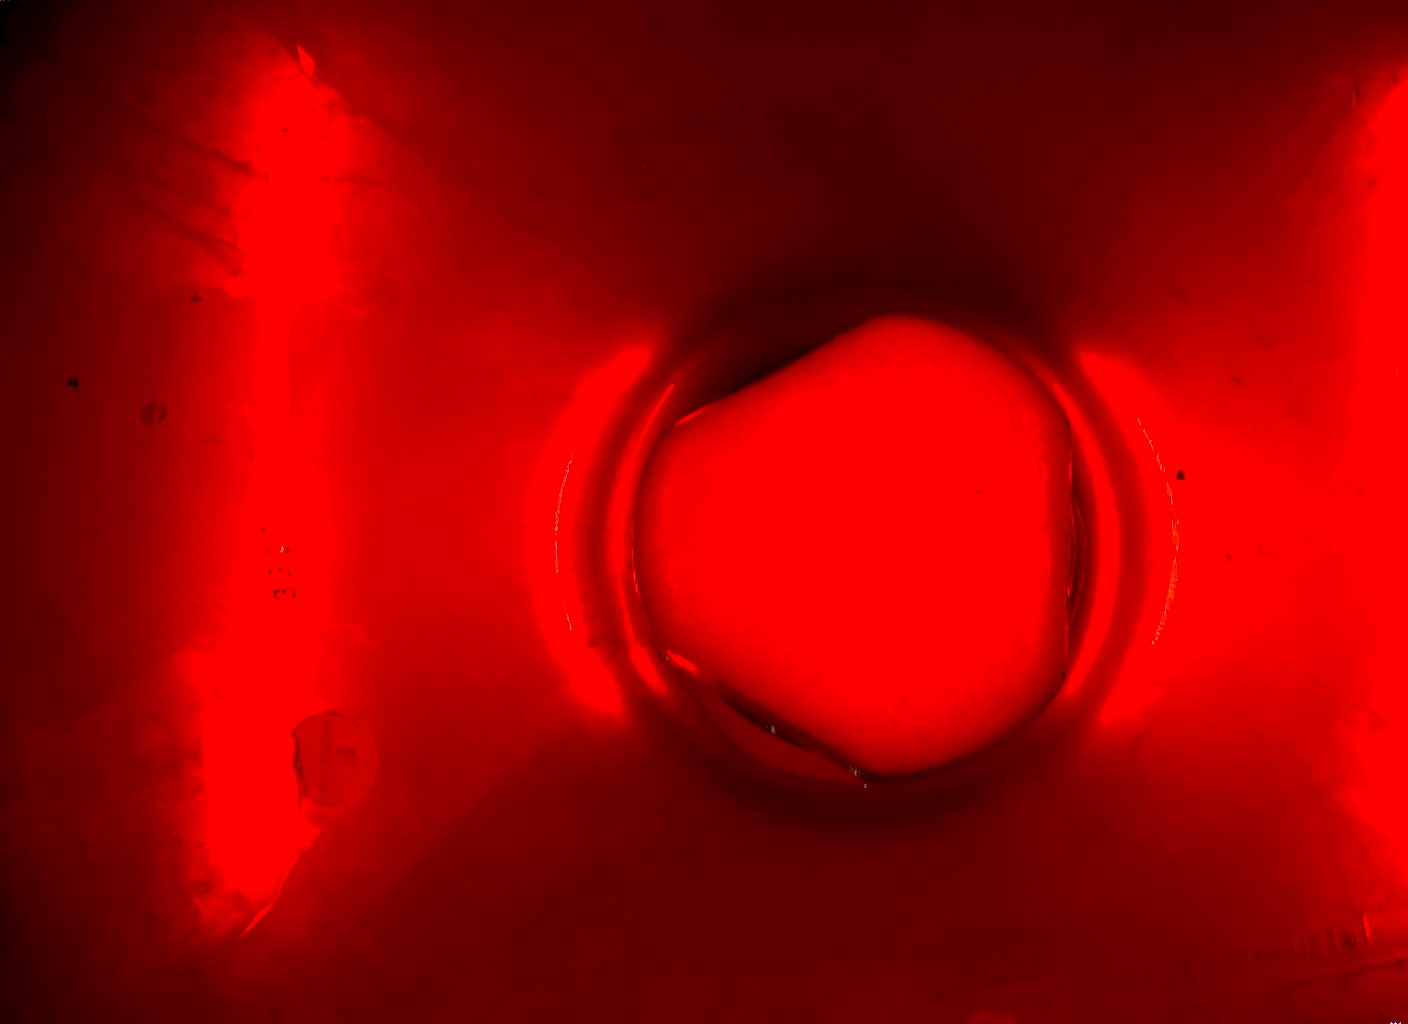shapka: (621, 306, 1098, 787)
